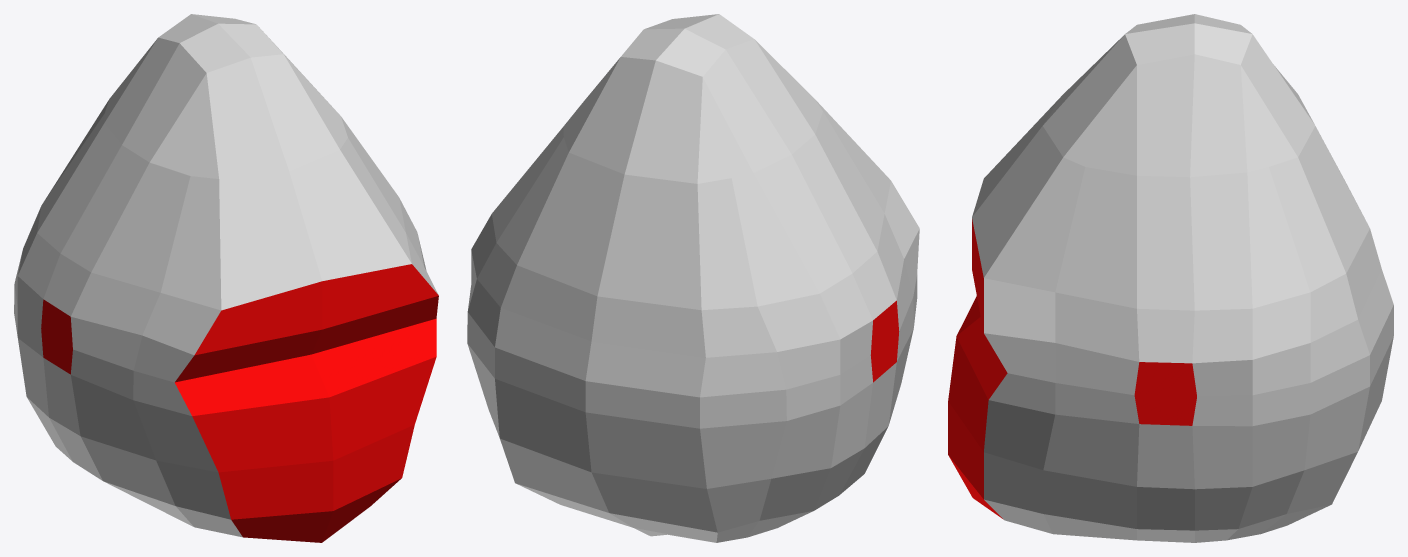
File: Gorila.fbx
The picture shows the model from 3 angles, left to right: view 1: azimuth 30°, elevation 25°; view 2: azimuth 150°, elevation 25°; view 3: azimuth 270°, elevation 25°; orthographic projection. The views are drawn at different scales.
Parts seen in each view (by area): view 1: Gorila; view 2: Gorila; view 3: Gorila.
Part boxes in pixels (bbox=[...]): Gorila: bbox=[14, 14, 438, 542]; Gorila: bbox=[467, 14, 919, 542]; Gorila: bbox=[948, 14, 1393, 542].
Bounding box in the file's own units: 36.54 × 45 × 37.45.
